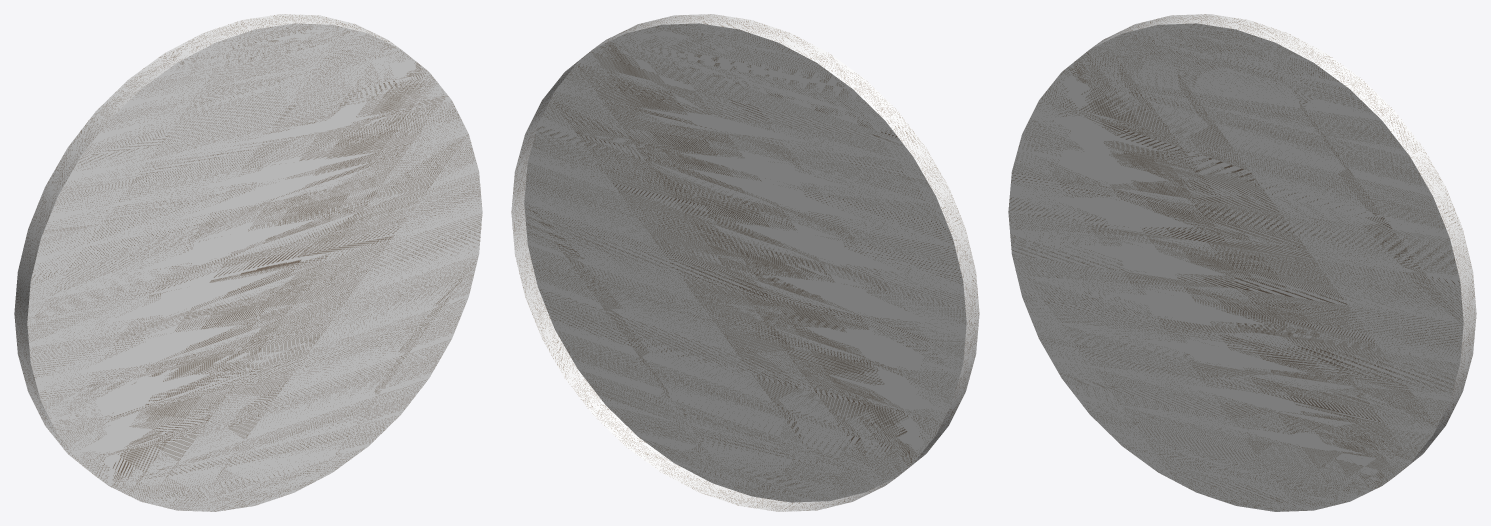
The model's file is original-28.obj.
3 views of the same model, side by side, from view 1: azimuth 30°, elevation 25°; view 2: azimuth 150°, elevation 25°; view 3: azimuth 330°, elevation 25° (orthographic).
Parts seen in each view (by area): view 1: #ID375; view 2: #ID375; view 3: #ID375.
Boxes of the visible parts, x1=… form: #ID375: x1=14, y1=14, x2=482, y2=511; #ID375: x1=511, y1=14, x2=979, y2=511; #ID375: x1=1008, y1=14, x2=1476, y2=511.
Size of the model in its own units: 0.0417 by 0.0417 by 0.00204.
